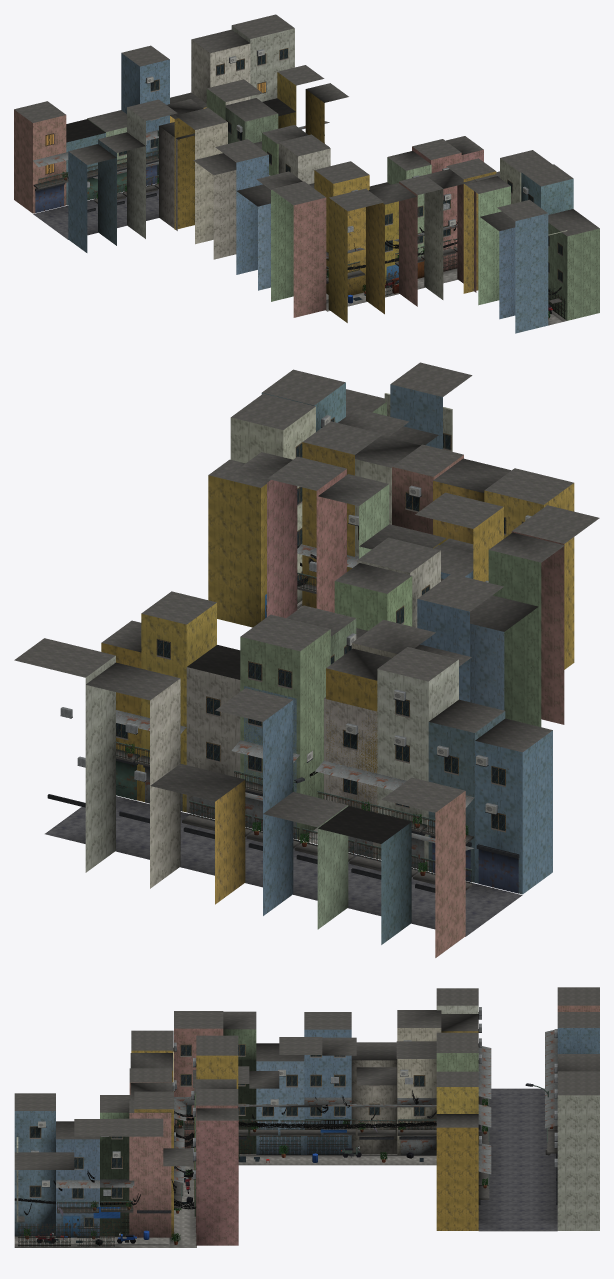
Rendered from alley.glb.
The picture shows the model from 3 angles, top to bottom: view 1: azimuth 30°, elevation 25°; view 2: azimuth 150°, elevation 25°; view 3: azimuth 270°, elevation 25°; orthographic projection. The views are drawn at different scales.
Visible parts, largest first — view 1: alley_concrete_dark, alley_wall_blue, alley_wall_white, alley_wall_yellow, alley_wall_green, alley_wall_pink, alley_asphalt, alley_window_bars, alley_railing_cut, alley_shutter_blue, alley_concrete, alley_shutter_grey (+1 smaller); view 2: alley_concrete_dark, alley_wall_white, alley_wall_blue, alley_wall_yellow, alley_wall_green, alley_wall_pink, alley_asphalt, alley_window_bars, alley_shutter_grey, alley_railing_cut, alley_shutter_blue, alley_metal_dark (+2 smaller); view 3: alley_concrete_dark, alley_wall_blue, alley_wall_pink, alley_wall_white, alley_asphalt, alley_wall_yellow, alley_shutter_grey, alley_wall_green, alley_concrete, alley_iron_gate_cut, alley_window_bars, alley_cables_cut (+7 smaller).
Boxes of the visible parts, x1,y1,x2,y2 form: alley_concrete_dark: (14, 14, 599, 321); alley_wall_blue: (66, 53, 573, 333); alley_wall_white: (127, 25, 567, 299); alley_wall_yellow: (170, 72, 496, 322); alley_wall_green: (87, 88, 599, 320); alley_wall_pink: (14, 109, 483, 317); alley_asphalt: (33, 184, 158, 239); alley_window_bars: (118, 48, 562, 283); alley_railing_cut: (38, 150, 457, 278); alley_shutter_blue: (35, 165, 157, 212); alley_concrete: (326, 268, 566, 325); alley_shutter_grey: (33, 121, 457, 258); alley_concrete_dark: (14, 362, 599, 890); alley_wall_white: (85, 393, 458, 888); alley_wall_blue: (244, 382, 552, 944); alley_wall_yellow: (101, 442, 574, 904); alley_wall_green: (240, 402, 541, 929); alley_wall_pink: (267, 455, 564, 957); alley_asphalt: (45, 796, 522, 936); alley_window_bars: (116, 417, 523, 832); alley_shutter_grey: (116, 543, 474, 869); alley_railing_cut: (116, 574, 471, 883); alley_shutter_blue: (432, 842, 518, 893); alley_metal_dark: (47, 427, 519, 892); alley_concrete_dark: (14, 987, 599, 1245); alley_wall_blue: (14, 1028, 599, 1237); alley_wall_pink: (129, 1005, 599, 1245); alley_wall_white: (16, 1005, 599, 1230); alley_asphalt: (478, 1088, 557, 1231); alley_wall_yellow: (131, 1031, 478, 1237); alley_shutter_grey: (56, 1030, 557, 1188); alley_wall_green: (100, 1029, 478, 1236); alley_concrete: (14, 1154, 436, 1247); alley_iron_gate_cut: (18, 1131, 348, 1246); alley_window_bars: (29, 1044, 425, 1227); alley_cables_cut: (14, 1090, 436, 1215).
Size of what is drawn, in the model's own units: 39.57 by 14.23 by 55.57.
42 materials, 42 textured.
